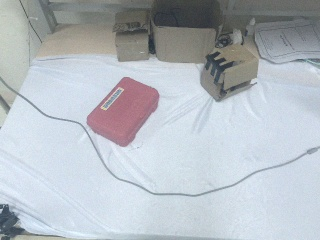box: (86, 72, 161, 149), (152, 1, 220, 63), (200, 44, 258, 101), (111, 9, 152, 66)
